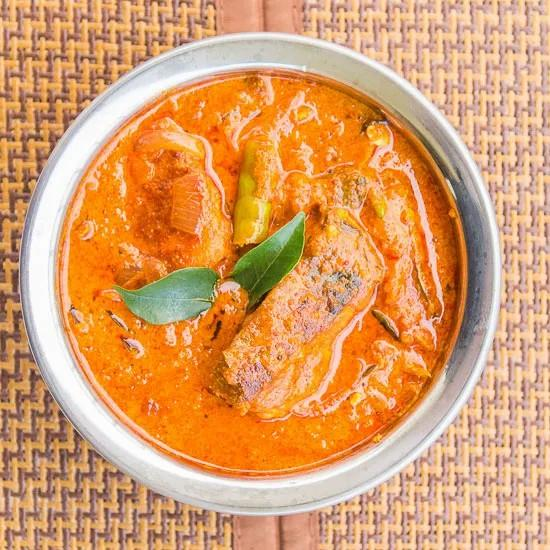FishCurry: (57, 70, 470, 479)
